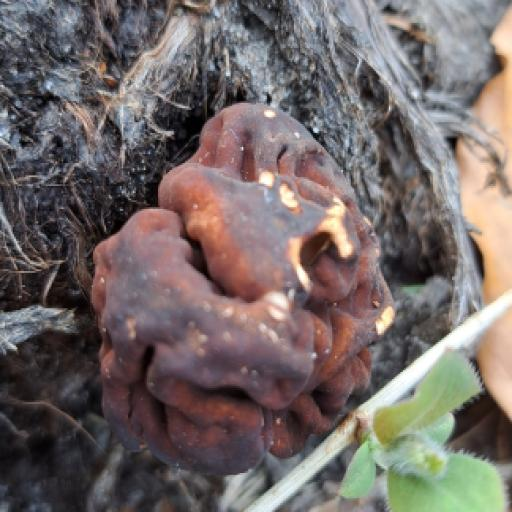False Morel: (27, 86, 462, 512)
